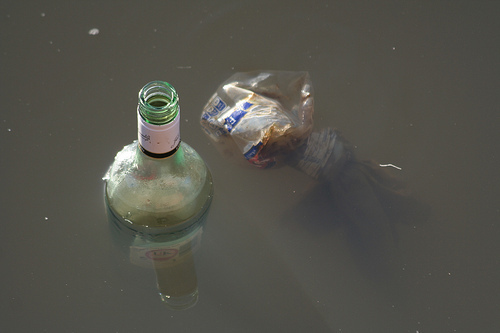litter: (101, 81, 213, 269), (210, 70, 346, 178)
